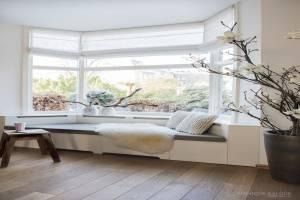window: (24, 16, 234, 119)
